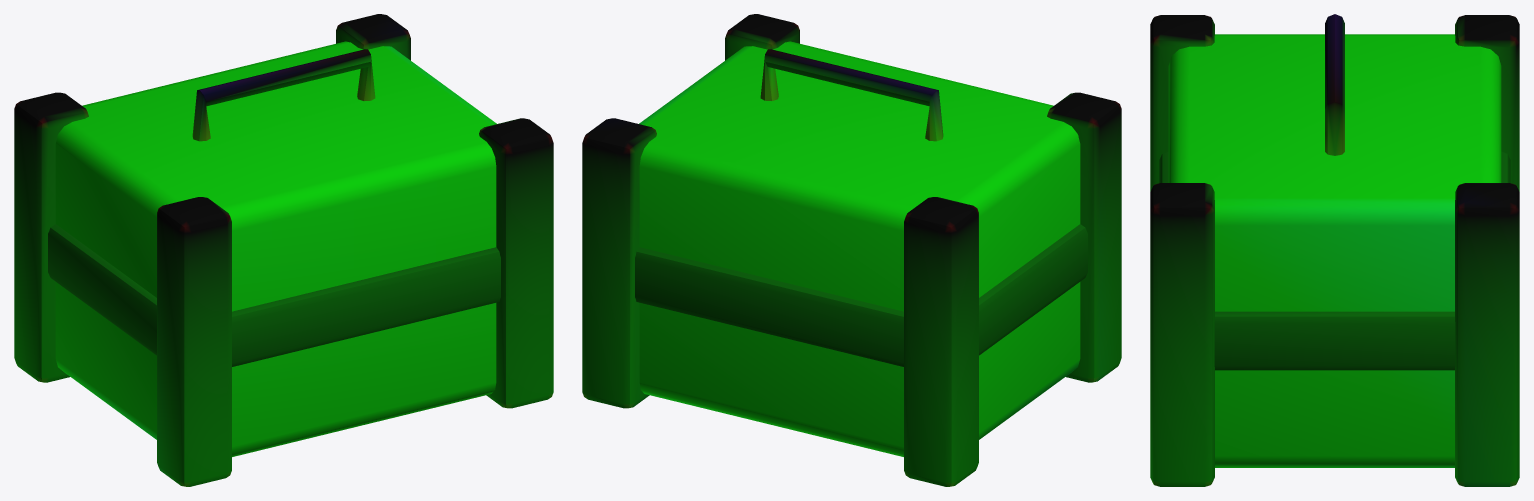
File: hero_cargo_crate.glb
The picture shows the model from 3 angles, left to right: view 1: azimuth 30°, elevation 25°; view 2: azimuth 150°, elevation 25°; view 3: azimuth 270°, elevation 25°; orthographic projection. The views are drawn at different scales.
Visible parts, largest first — view 1: HeroCargoCrate; view 2: HeroCargoCrate; view 3: HeroCargoCrate.
Part boxes in pixels (x1=…): HeroCargoCrate: x1=14, y1=14, x2=553, y2=486; HeroCargoCrate: x1=582, y1=14, x2=1121, y2=486; HeroCargoCrate: x1=1150, y1=14, x2=1519, y2=486.
Size of the model in its own units: 1 by 0.8015 by 0.8.
